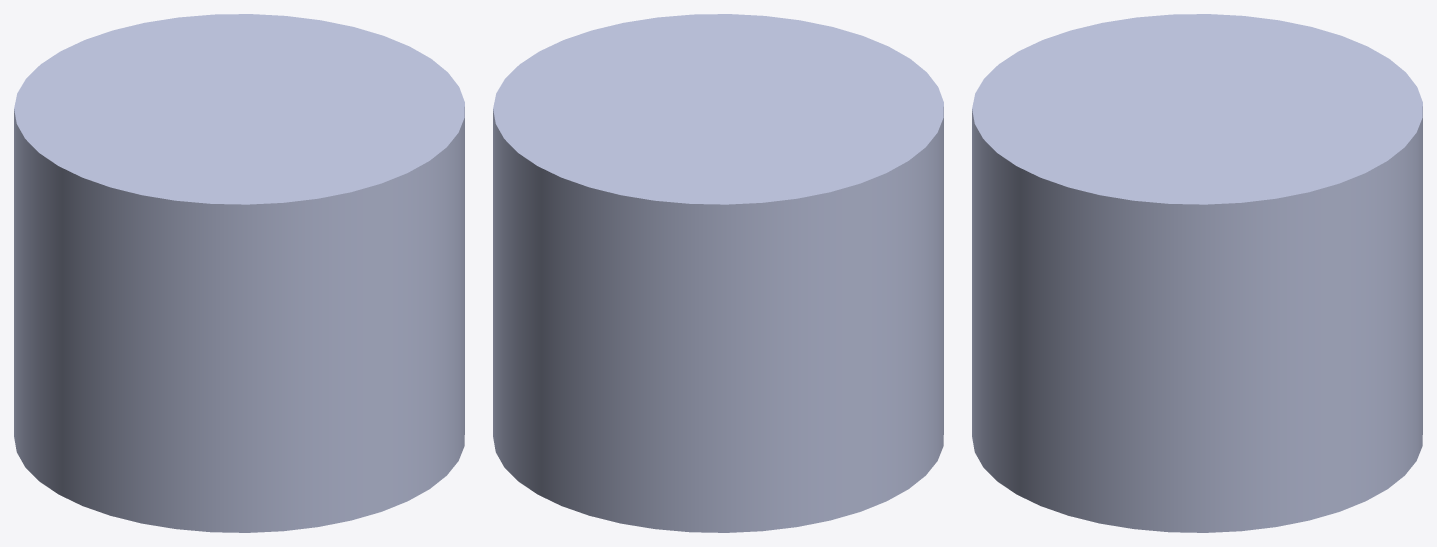
3 views of the same model, side by side, from view 1: azimuth 30°, elevation 25°; view 2: azimuth 150°, elevation 25°; view 3: azimuth 270°, elevation 25° (orthographic).
Parts seen in each view (by area): view 1: Body1; view 2: Body1; view 3: Body1.
Part boxes in pixels (left/top/right/bottom): Body1: left=14, top=14, right=464, bottom=532; Body1: left=493, top=14, right=943, bottom=532; Body1: left=972, top=14, right=1422, bottom=532.
Size of the model in its own units: 0.057 by 0.0468 by 0.0569.
